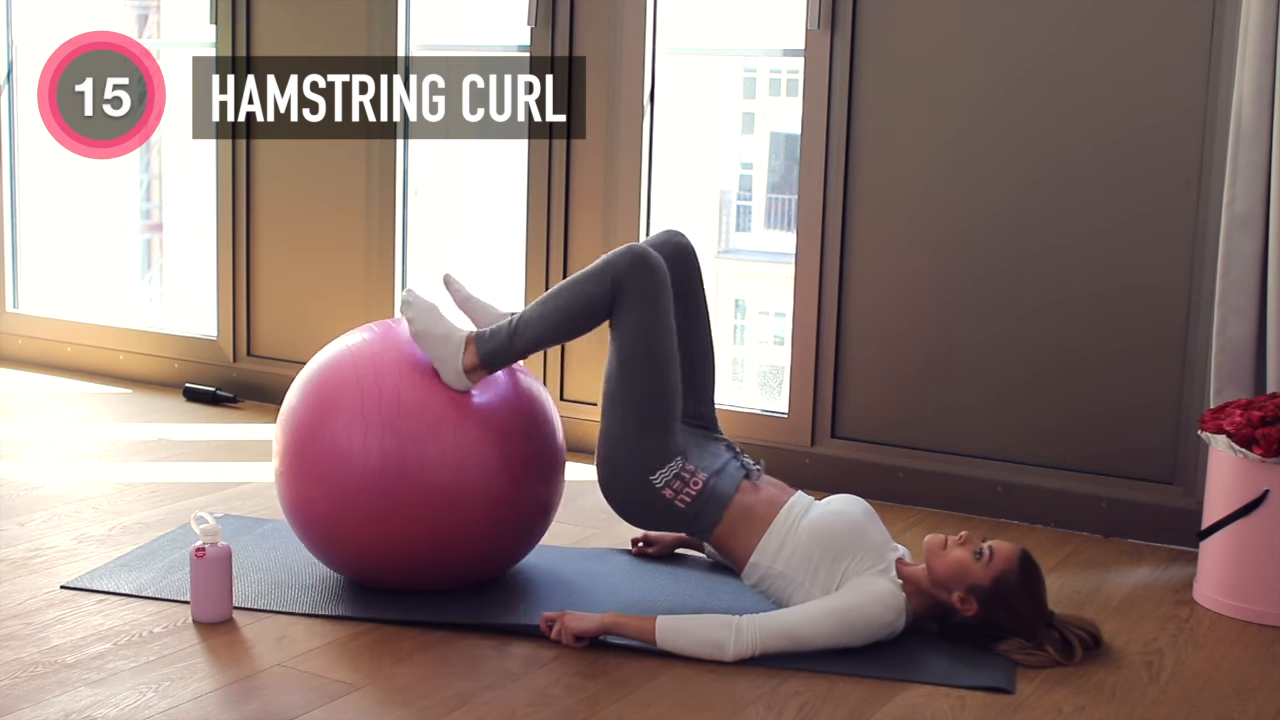yogaball: (269, 315, 572, 607)
